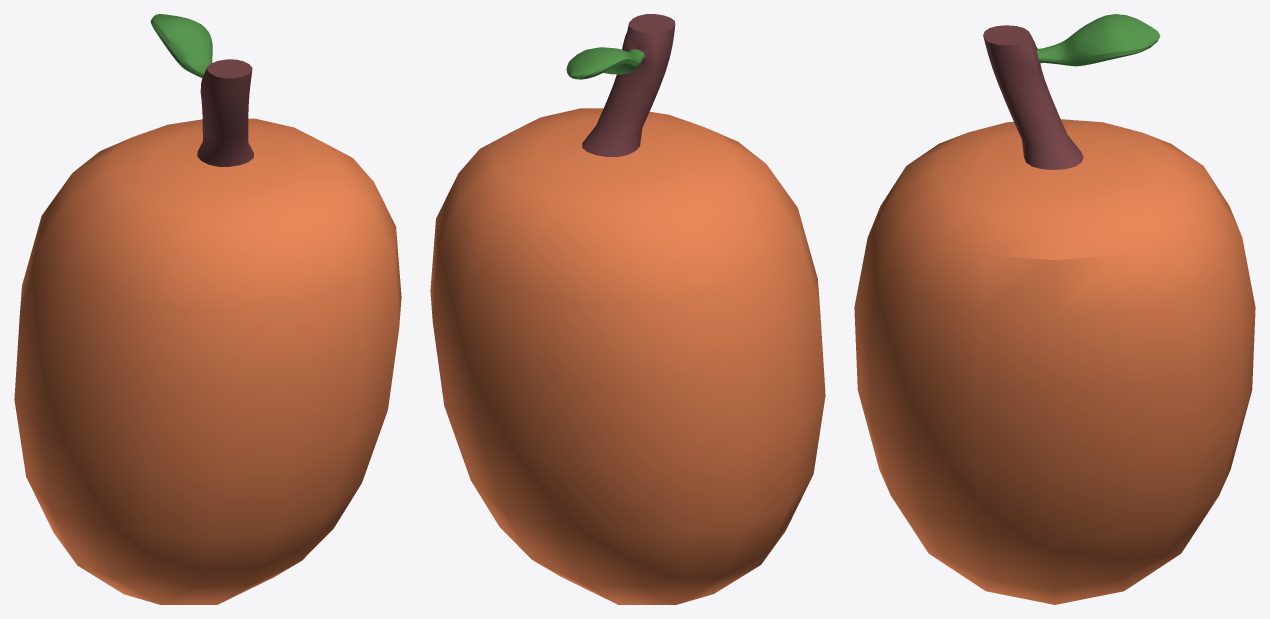
File: Mango.fbx
The picture shows the model from 3 angles, left to right: view 1: azimuth 30°, elevation 25°; view 2: azimuth 150°, elevation 25°; view 3: azimuth 270°, elevation 25°; orthographic projection. The views are drawn at different scales.
Visible parts, largest first — view 1: Cube.002; view 2: Cube.002; view 3: Cube.002.
Boxes of the visible parts, box(x1,y1,x2,y2) form: Cube.002: box(14, 14, 401, 604); Cube.002: box(430, 14, 825, 604); Cube.002: box(854, 14, 1255, 604).
Size of the model in its own units: 165 by 258 by 162.
